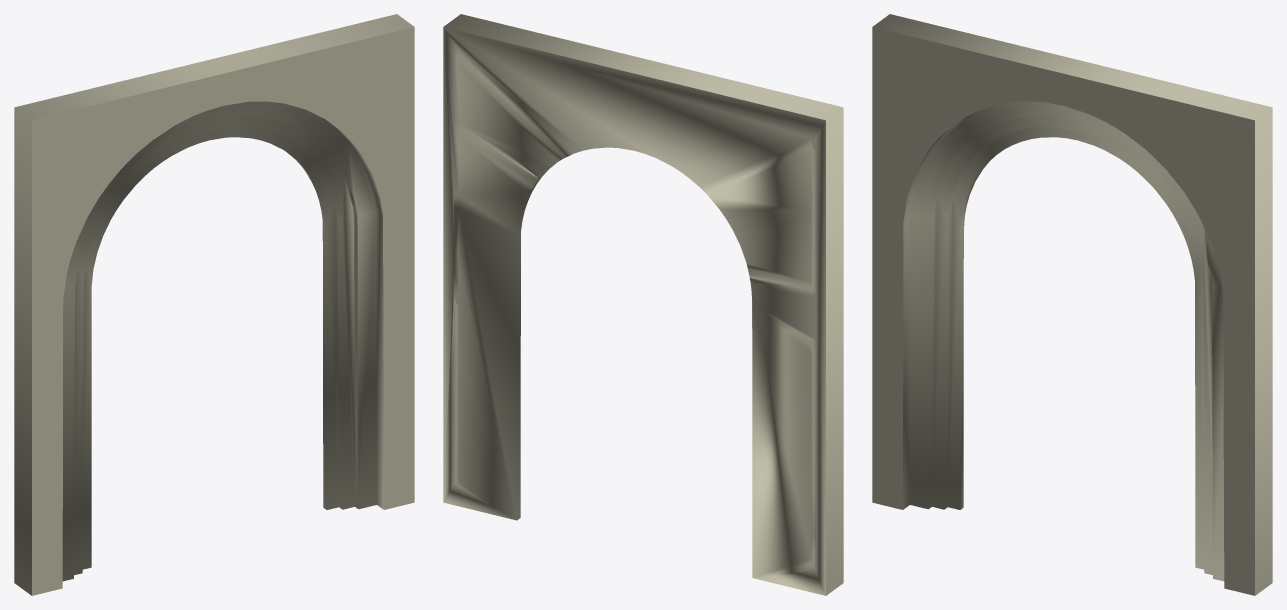
File: bararch.gltf
3 views of the same model, side by side, from view 1: azimuth 30°, elevation 25°; view 2: azimuth 150°, elevation 25°; view 3: azimuth 330°, elevation 25° (orthographic).
Parts seen in each view (by area): view 1: Object_2.002, Object_2, Object_2.003; view 2: Object_2, Object_2.003; view 3: Object_2.002, Object_2, Object_2.003.
Boxes of the visible parts, x1,y1,x2,y2 form: Object_2.002: (32,27,414,595); Object_2: (62,101,383,581); Object_2.003: (14,14,414,595); Object_2: (443,27,825,595); Object_2.003: (443,14,843,595); Object_2.002: (872,27,1254,595); Object_2: (903,101,1224,581); Object_2.003: (872,14,1272,595).
Bounding box in the file's own units: 5.15 × 6.11 × 0.4132.
